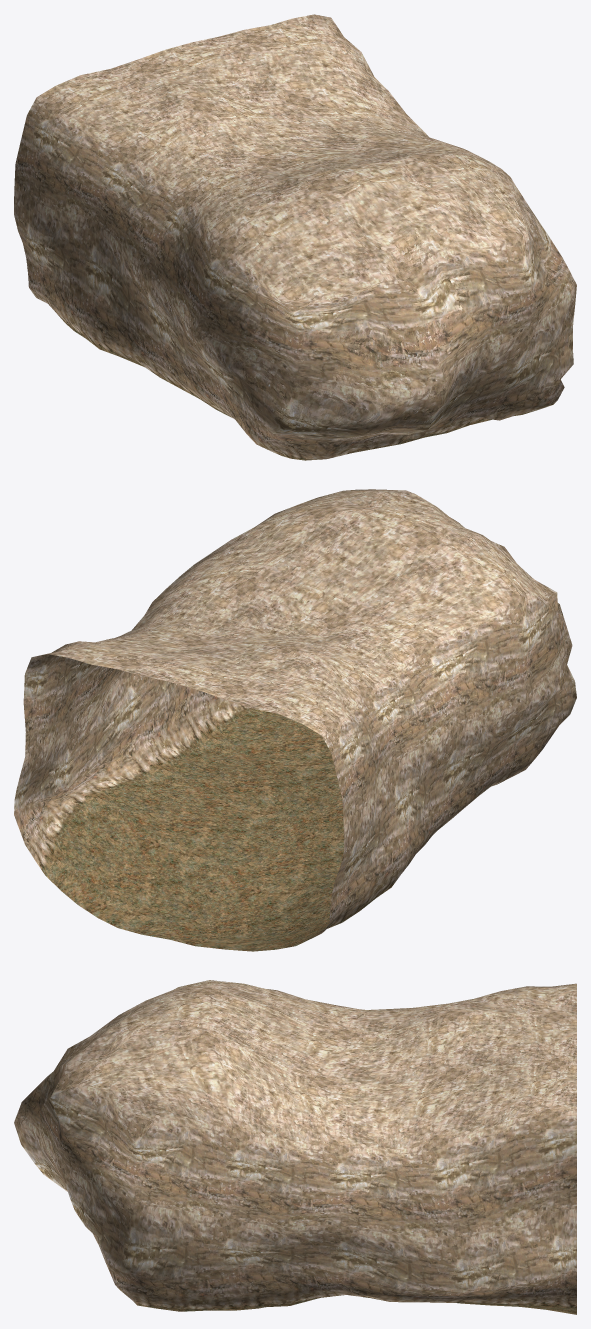
The model's file is thm_all_cave_s01_mirror_r11_mesh_r11.fbx.
3 renders of one model, top to bottom at view 1: azimuth 30°, elevation 25°; view 2: azimuth 150°, elevation 25°; view 3: azimuth 270°, elevation 25°, orthographic. The views are drawn at different scales.
Parts seen in each view (by area): view 1: mesh_node; view 2: mesh_node; view 3: mesh_node.
Part boxes in pixels (left/top/right/bottom): mesh_node: left=14, top=14, right=576, bottom=460; mesh_node: left=14, top=489, right=576, bottom=951; mesh_node: left=14, top=980, right=576, bottom=1314.
Size of the model in its own units: 34.13 by 27 by 50.77.
